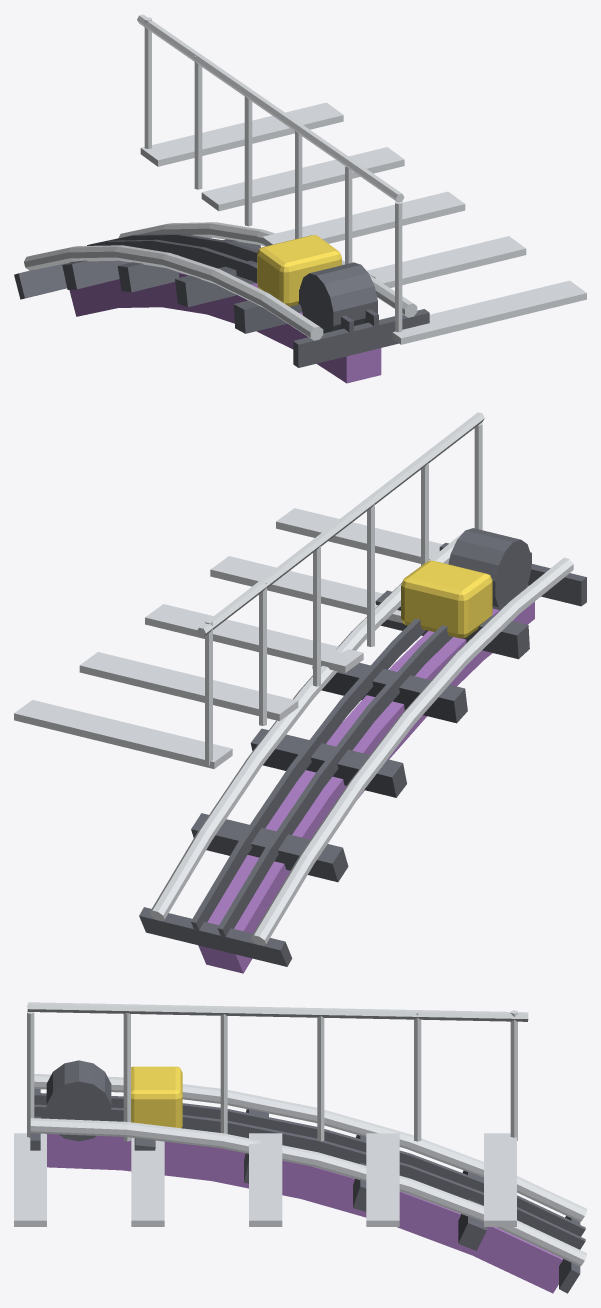
The model's file is theme-park-rides-and-coasters-theme-park-rides-and-coa-f2011868__28630.glb.
The picture shows the model from 3 angles, top to bottom: view 1: azimuth 30°, elevation 25°; view 2: azimuth 150°, elevation 25°; view 3: azimuth 270°, elevation 25°; orthographic projection. The views are drawn at different scales.
Parts seen in each view (by area): view 1: theme-park-rides-and-coasters-track-lift-crest; view 2: theme-park-rides-and-coasters-track-lift-crest; view 3: theme-park-rides-and-coasters-track-lift-crest.
Part boxes in pixels (<box>): theme-park-rides-and-coasters-track-lift-crest: <box>14,14,586,383</box>; theme-park-rides-and-coasters-track-lift-crest: <box>14,412,586,973</box>; theme-park-rides-and-coasters-track-lift-crest: <box>14,1002,586,1293</box>.
Size of the model in its own units: 2.26 by 2.38 by 4.15.
